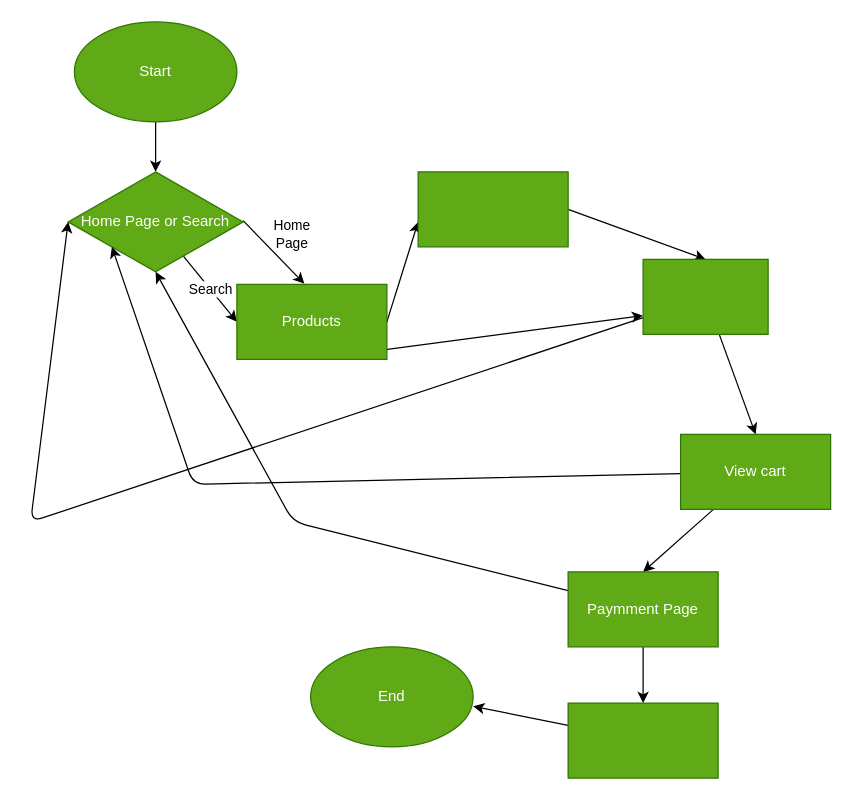
This 853x800 diagram has some shape labels left out. Each missing label, with the centre of its shape:
"Add to Cart" goes at pixel 705 296.
"Confirmation page" goes at pixel 642 740.
"Product page" goes at pixel 492 209.
